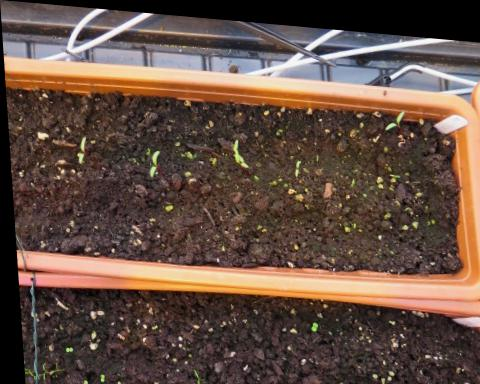crop: (379, 100, 404, 124), (143, 145, 162, 176), (71, 131, 86, 163), (288, 152, 301, 173)
weed: (302, 313, 315, 327), (90, 368, 101, 382), (58, 344, 68, 351), (146, 376, 156, 383)
